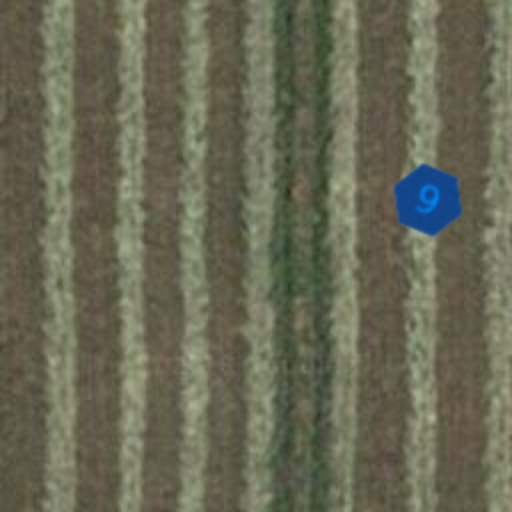hexagon: (378, 150, 478, 250)
